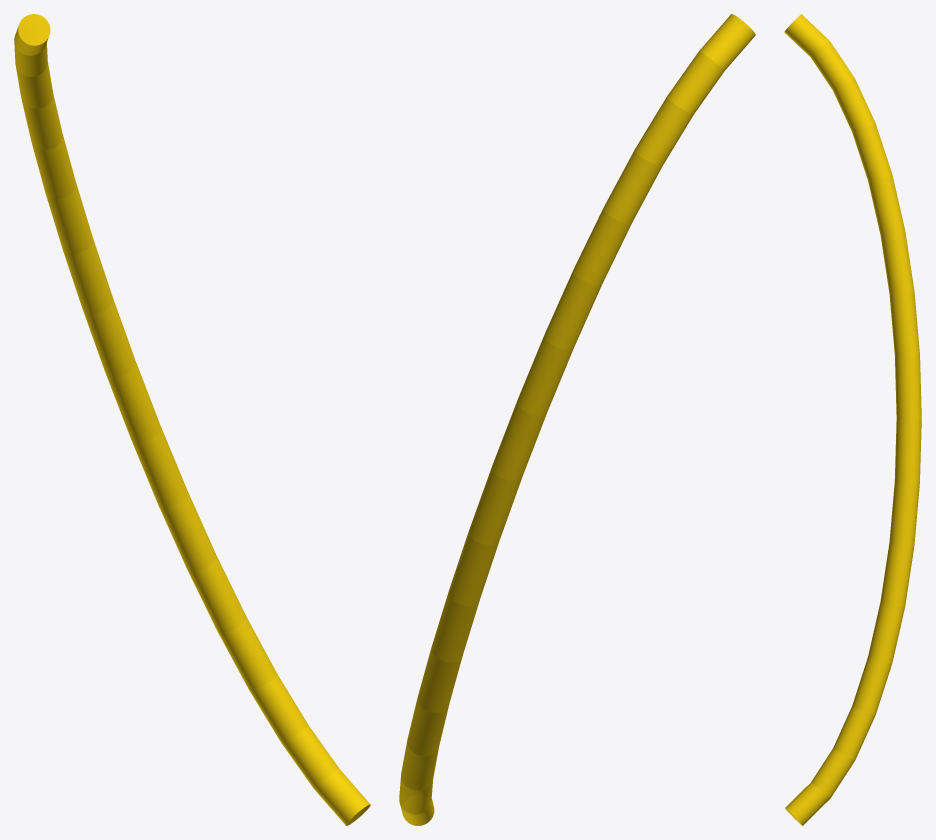
The model's file is Event_420094457_track_66.fbx.
The picture shows the model from 3 angles, left to right: view 1: azimuth 30°, elevation 25°; view 2: azimuth 150°, elevation 25°; view 3: azimuth 270°, elevation 25°; orthographic projection. The views are drawn at different scales.
Parts seen in each view (by area): view 1: Model; view 2: Model; view 3: Model.
Boxes of the visible parts, bbox=[...] form: Model: bbox=[14, 14, 370, 825]; Model: bbox=[399, 14, 755, 825]; Model: bbox=[784, 14, 921, 825].
Size of the model in its own units: 0.4991 by 1.21 by 0.2183.
